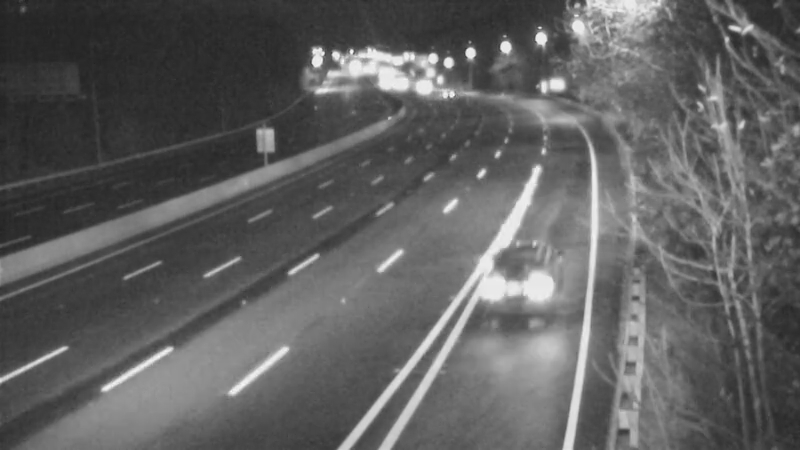vehicle: (475, 249, 555, 329), (392, 62, 442, 112), (424, 68, 474, 118)
